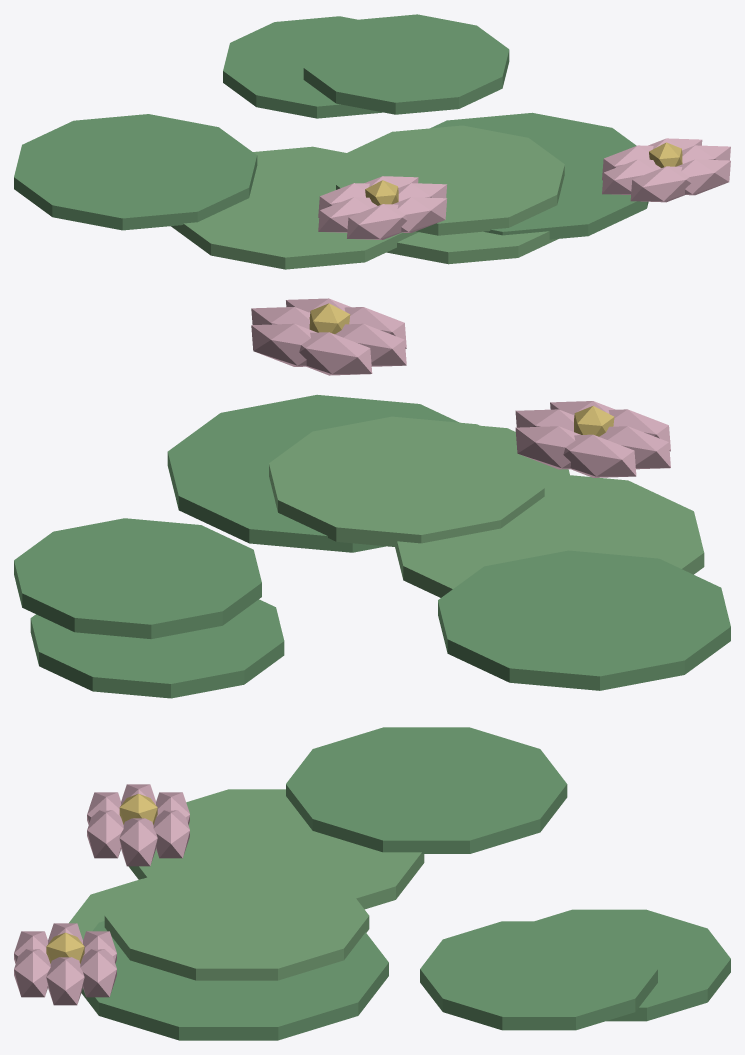
Rendered from LilyPads.glb.
3 views of the same model, one above another, from view 1: azimuth 30°, elevation 25°; view 2: azimuth 150°, elevation 25°; view 3: azimuth 270°, elevation 25° (orthographic). The views are drawn at different scales.
Visible parts, largest first — view 1: LilyPads; view 2: LilyPads; view 3: LilyPads.
Part boxes in pixels (<box>): LilyPads: <box>14,14,730,269</box>; LilyPads: <box>14,298,730,698</box>; LilyPads: <box>14,727,730,1040</box>.
Bounding box in the file's own units: 5.64 × 0.83 × 5.75.
